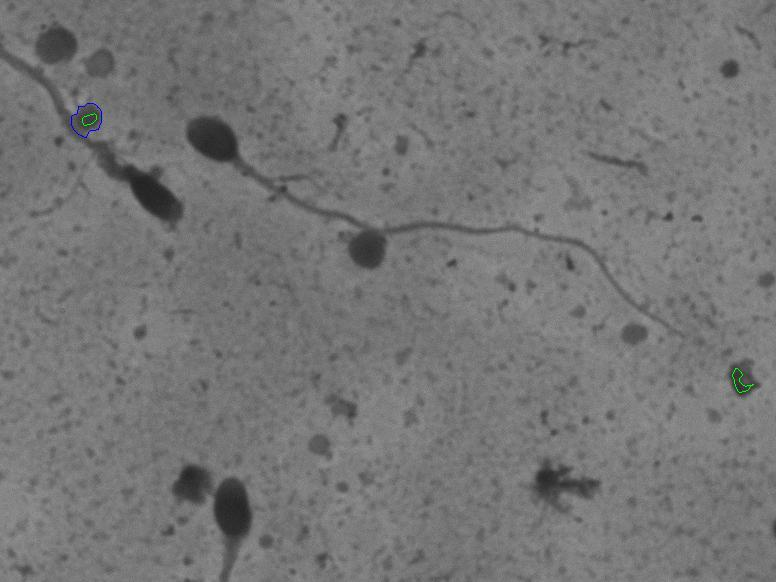Abnormal: (22, 112, 203, 242)
Normal: (167, 101, 704, 350)
